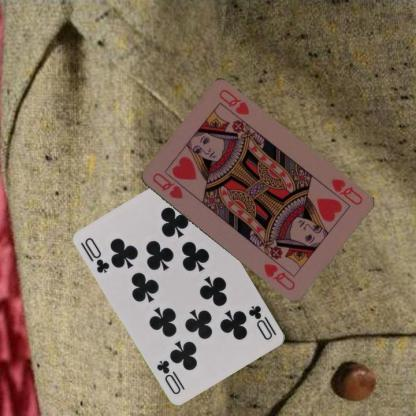10c: (78, 234, 112, 274), (246, 303, 274, 341)
Qh: (328, 175, 364, 207), (149, 170, 185, 200)
